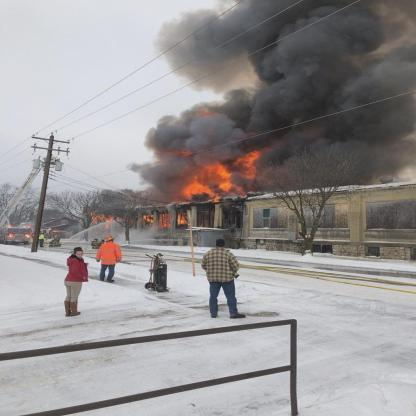Fire: (180, 149, 267, 208), (136, 211, 190, 230)
Smoke: (155, 0, 415, 150)
